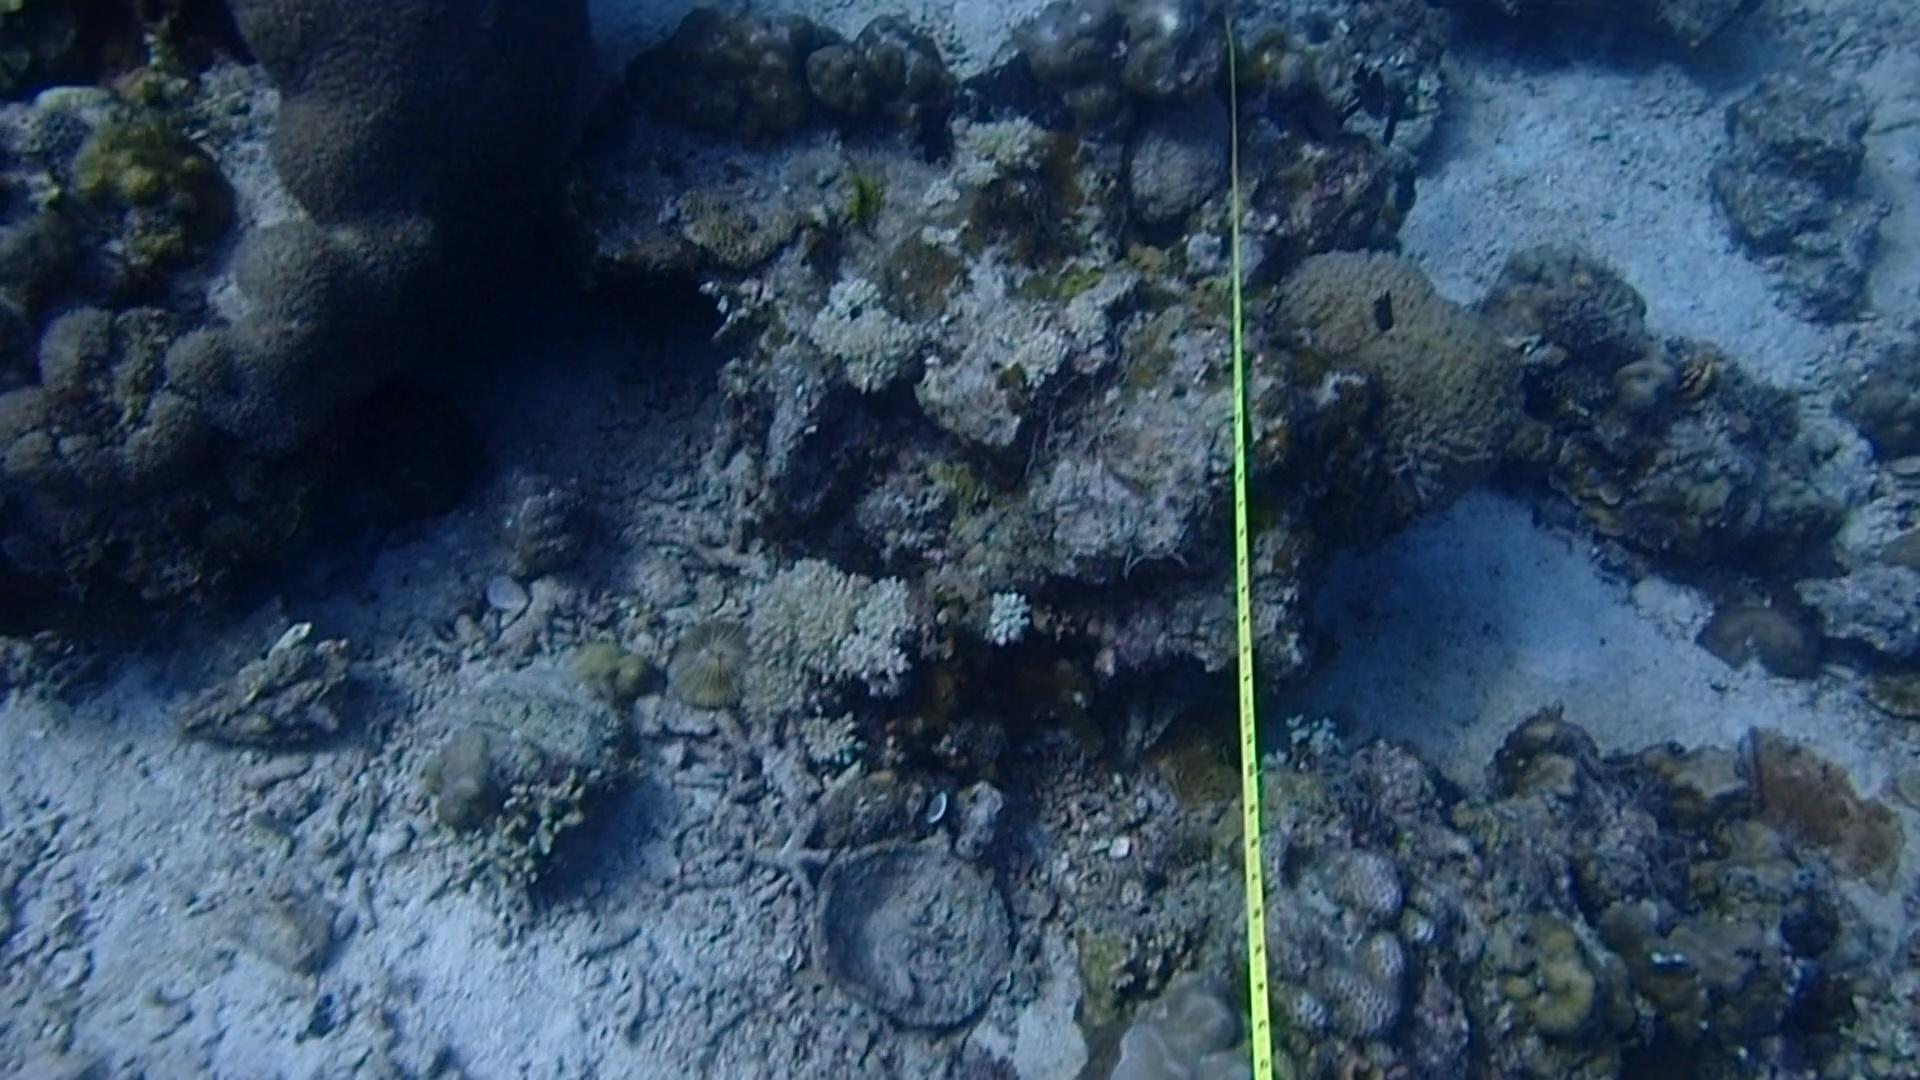Dark Fish: (1495, 356, 1571, 440), (1338, 55, 1395, 121), (1370, 276, 1414, 349), (1382, 66, 1411, 157), (1383, 166, 1428, 222)
